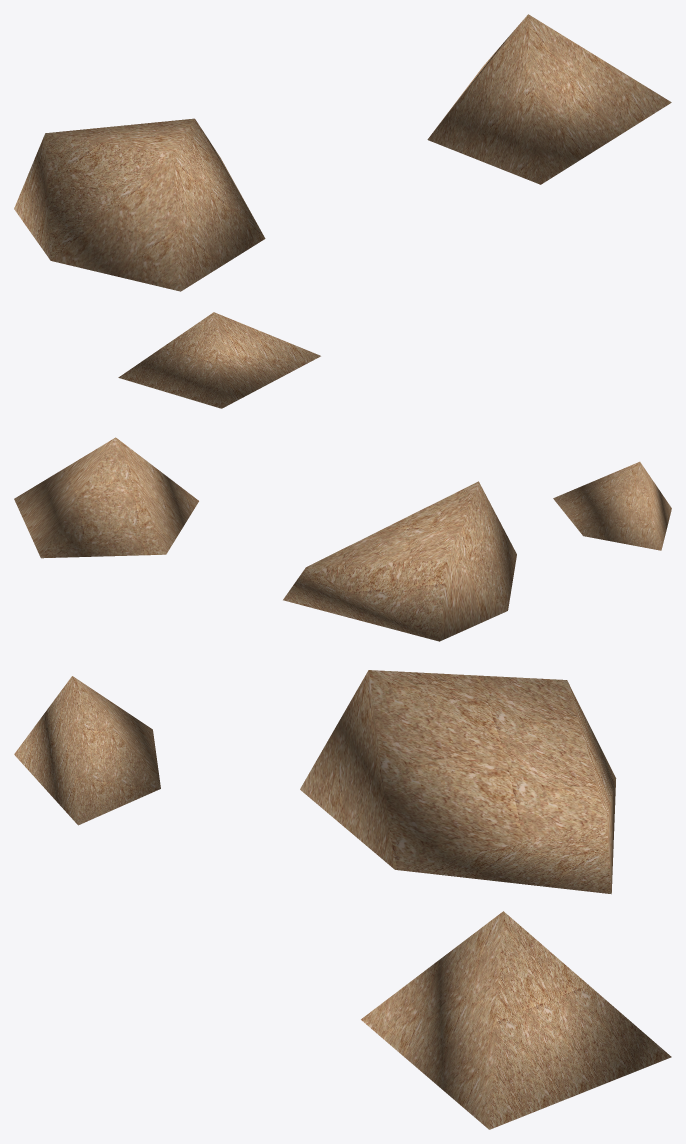
File: rock_pebbleclump_a2_l3.fbx
3 views of the same model, one above another, from view 1: azimuth 30°, elevation 25°; view 2: azimuth 150°, elevation 25°; view 3: azimuth 270°, elevation 25° (orthographic). The views are drawn at different scales.
Parts seen in each view (by area): view 1: mesh_node; view 2: mesh_node; view 3: mesh_node.
Part boxes in pixels (bbox=[...]): mesh_node: bbox=[14, 14, 671, 408]; mesh_node: bbox=[14, 437, 671, 641]; mesh_node: bbox=[14, 670, 671, 1129].
Bounding box in the file's own units: 1.01 × 0.1707 × 0.6957.
